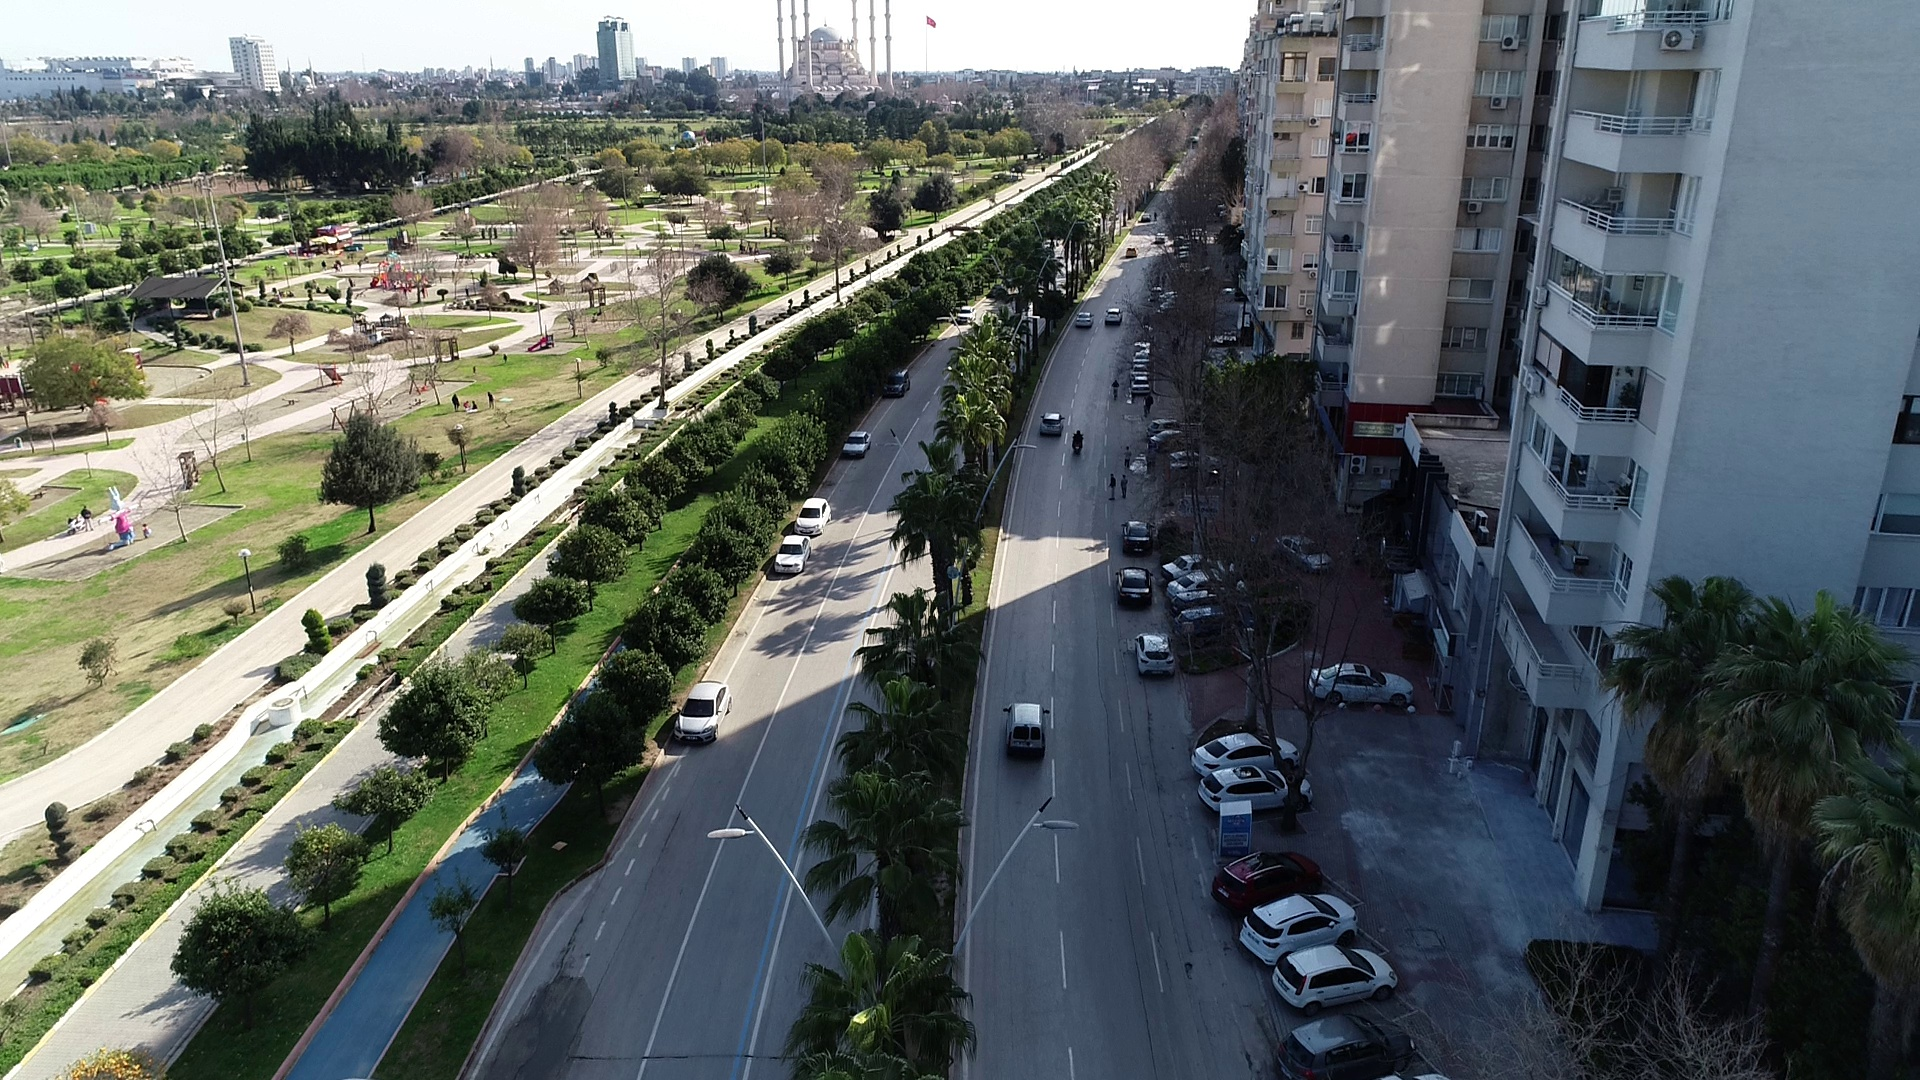car: (1235, 888, 1363, 974), (1265, 1014, 1418, 1080), (1274, 943, 1408, 1016), (1208, 844, 1325, 917), (1302, 660, 1425, 711), (1197, 764, 1312, 817), (1190, 725, 1306, 776), (671, 675, 735, 748), (1000, 697, 1051, 770), (1271, 529, 1342, 575), (1131, 630, 1178, 684), (1113, 564, 1158, 616), (772, 530, 814, 580), (793, 493, 832, 540), (1118, 518, 1157, 560), (876, 368, 917, 402), (842, 428, 873, 466), (1038, 410, 1067, 443), (952, 305, 980, 328), (1127, 373, 1153, 398), (1102, 303, 1124, 331), (1074, 308, 1096, 334), (1121, 243, 1141, 262)
person: (79, 504, 97, 534), (1106, 472, 1119, 504), (1108, 378, 1124, 403), (1119, 443, 1133, 472), (1118, 473, 1132, 501), (448, 392, 463, 414), (484, 390, 497, 412)
